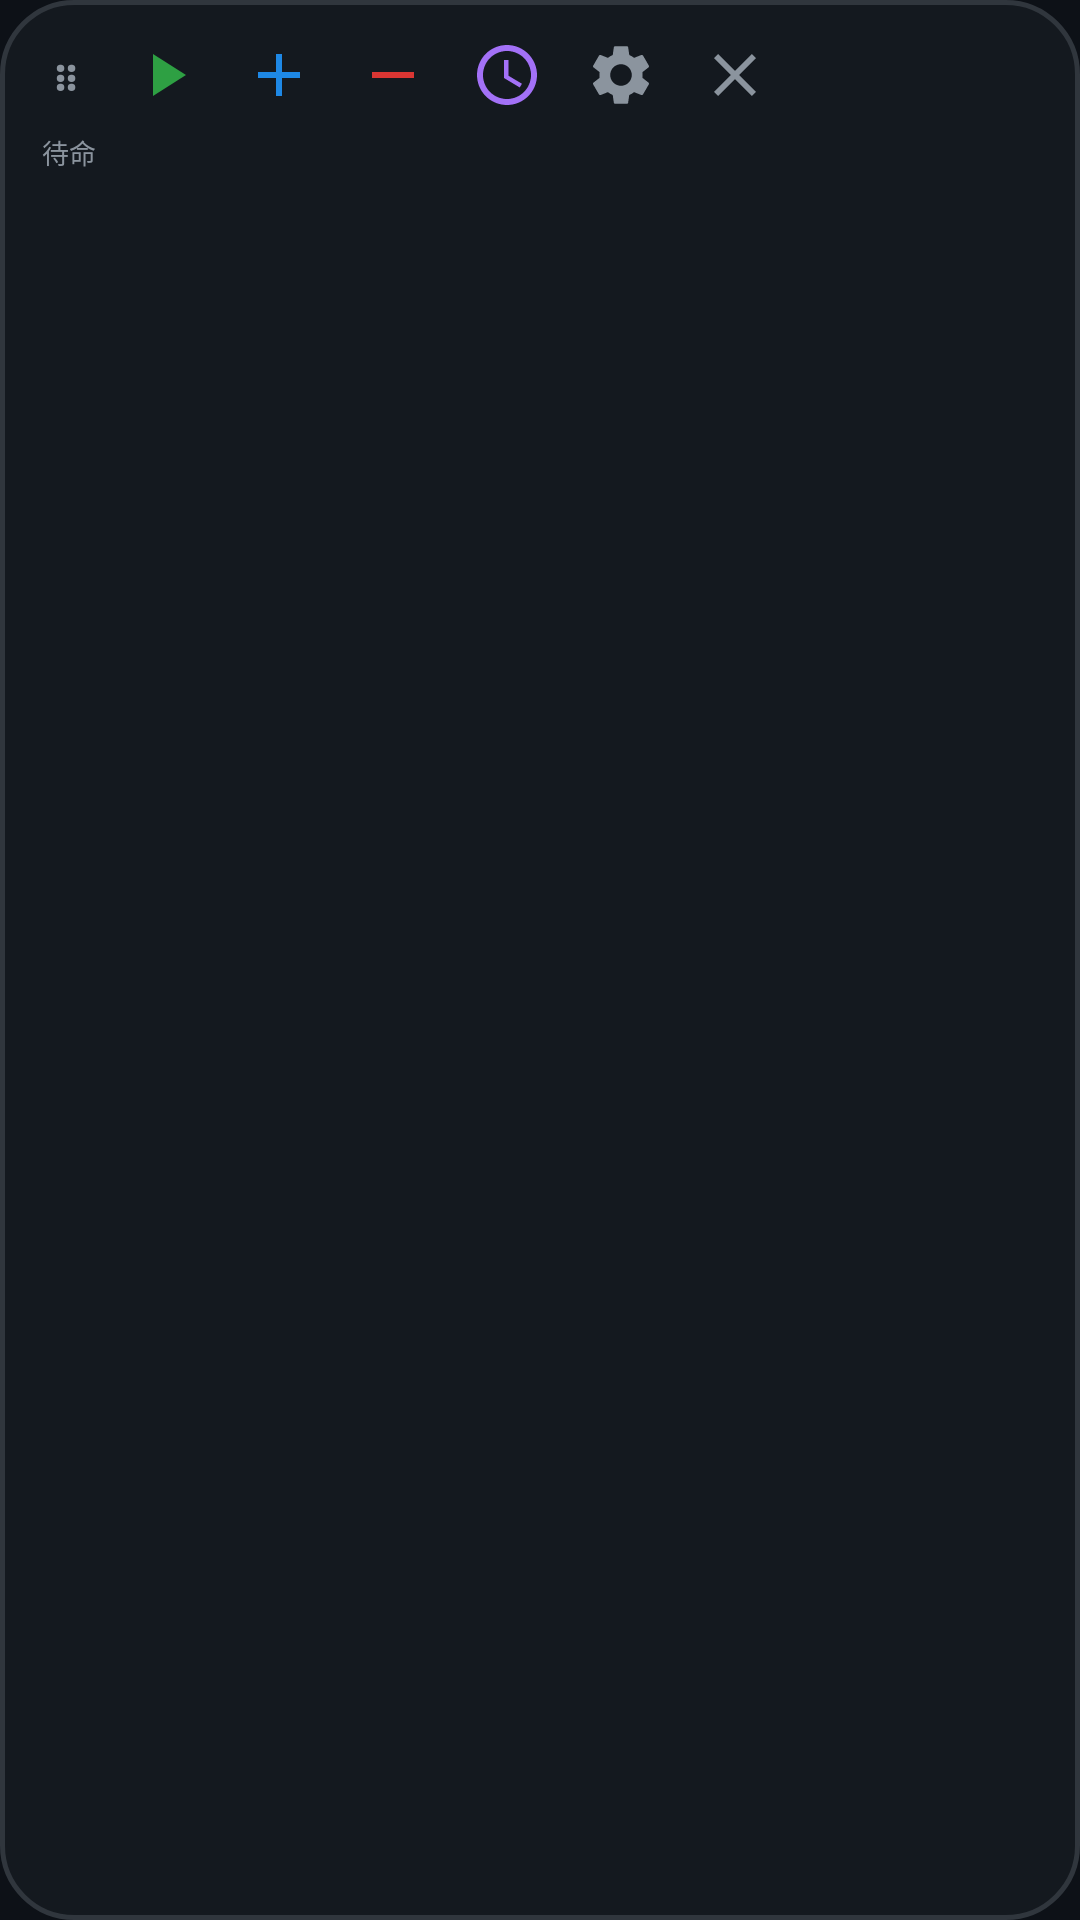

Icon click points for this 1080 x 1920 phone screenshot, format point (x, y):
Add Target: point (279, 75)
Close: point (735, 75)
Play/Pause: point (169, 75)
Speed Settings: point (621, 75)
Toggle Clock: point (507, 75)
